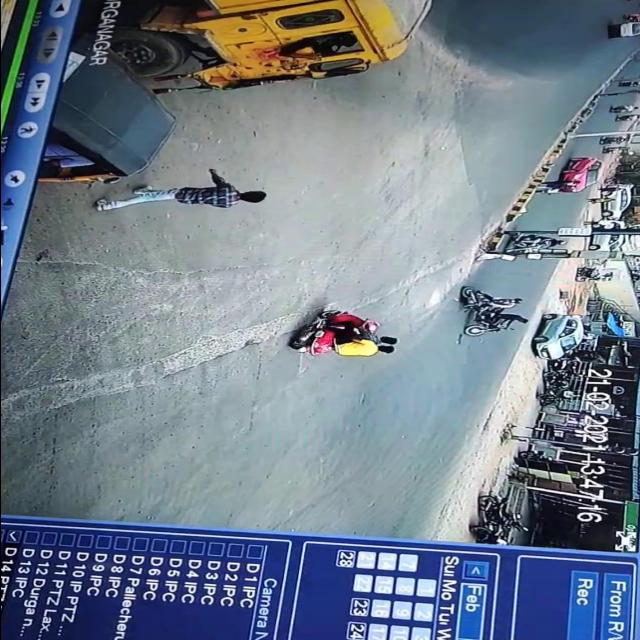accident: (446, 283, 538, 341)
